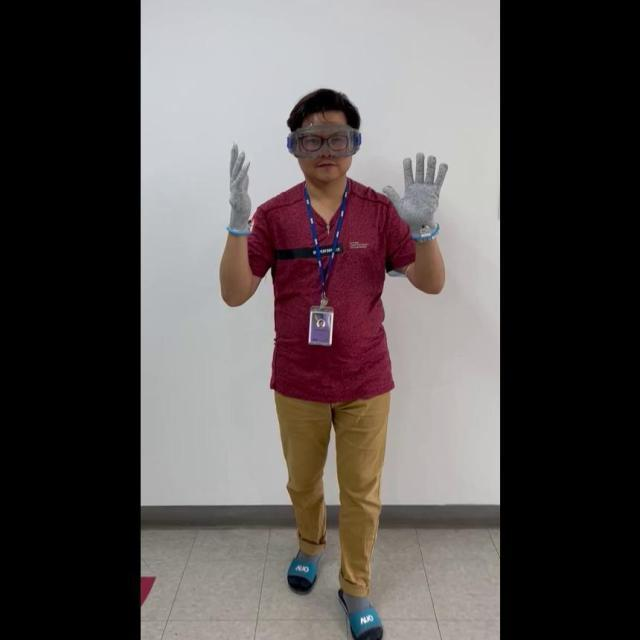gloved_hand: (382, 150, 447, 240), (223, 140, 255, 236)
